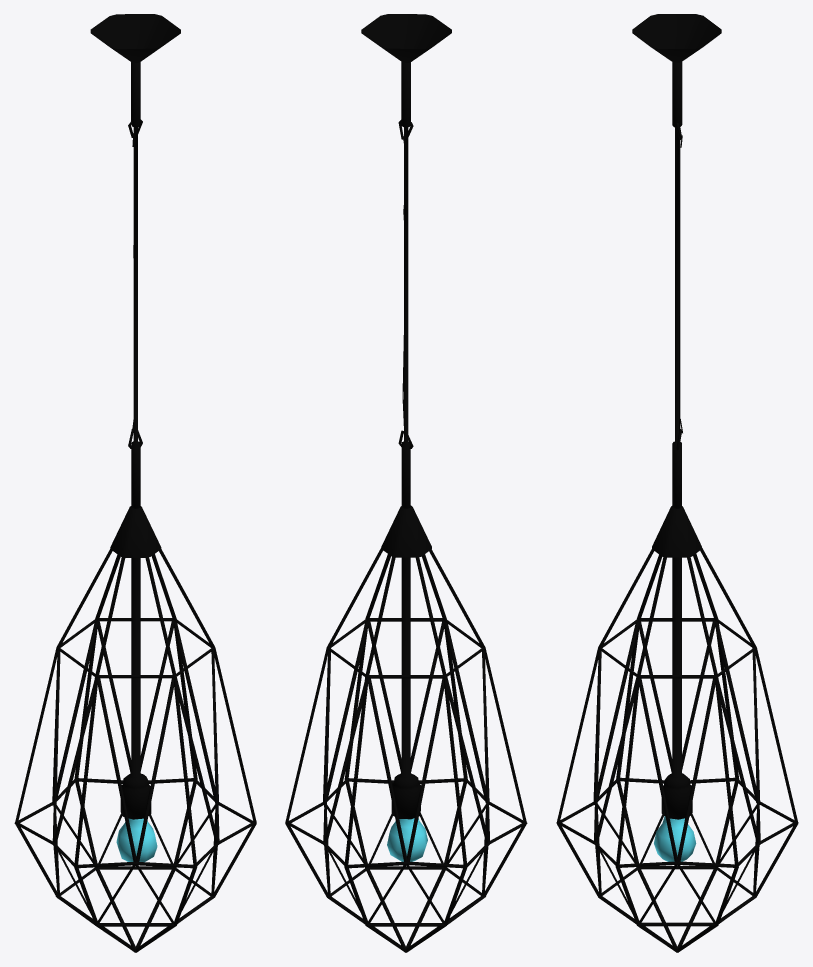
The model's file is SM_Pendantlight_012_A.FBX.
The picture shows the model from 3 angles, left to right: view 1: azimuth 30°, elevation 25°; view 2: azimuth 150°, elevation 25°; view 3: azimuth 270°, elevation 25°; orthographic projection.
Parts seen in each view (by area): view 1: SM_Pendantlight_012_A; view 2: SM_Pendantlight_012_A; view 3: SM_Pendantlight_012_A.
Boxes of the visible parts, <box> form: SM_Pendantlight_012_A: <box>14,14,256,952</box>; SM_Pendantlight_012_A: <box>285,14,527,952</box>; SM_Pendantlight_012_A: <box>556,14,798,952</box>.
Bounding box in the file's own units: 22.68 × 26.03 × 109.
